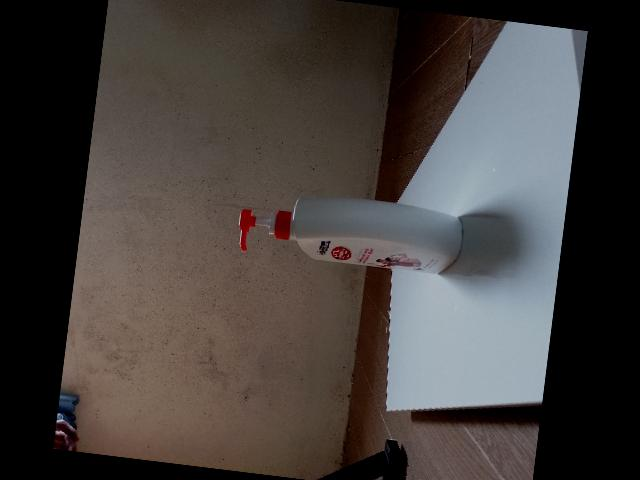life-buoy: (239, 195, 463, 273)
